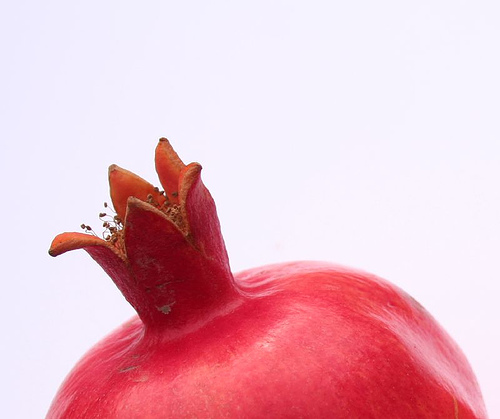pomogranate: (47, 137, 488, 416)
